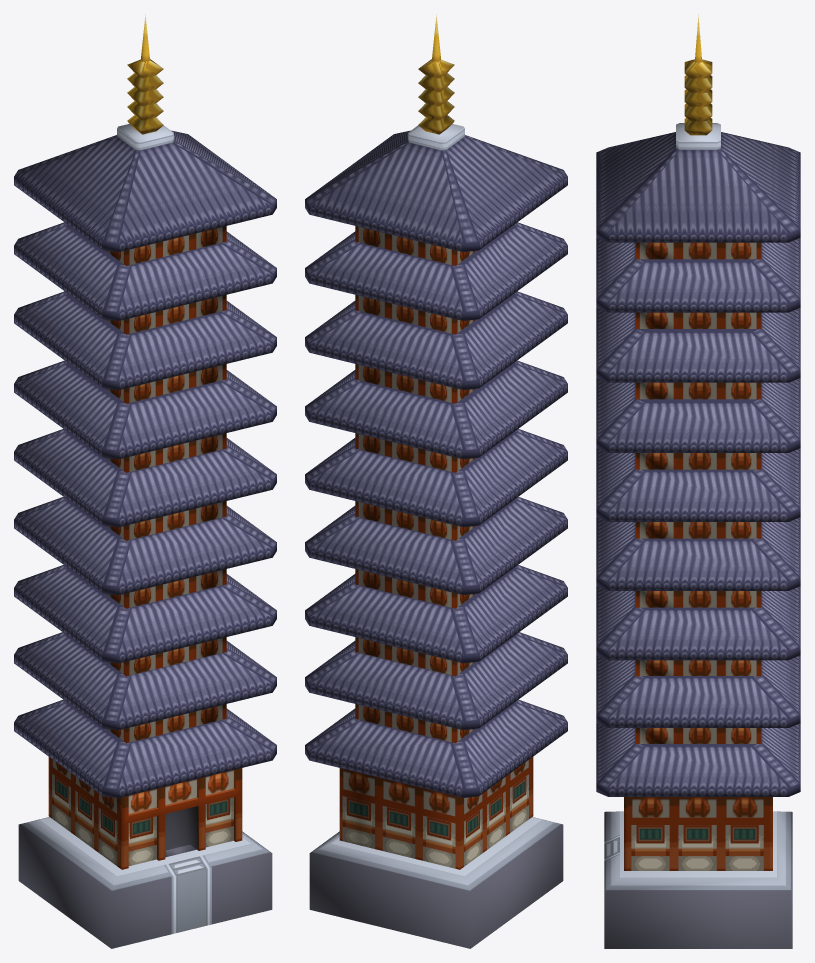
Rendered from tower.glb.
3 renders of one model, left to right at view 1: azimuth 30°, elevation 25°; view 2: azimuth 150°, elevation 25°; view 3: azimuth 270°, elevation 25°, orthographic.
Visible parts, largest first — view 1: mesh; view 2: mesh; view 3: mesh.
Part boxes in pixels (x1=…): mesh: x1=14, y1=14, x2=276, y2=948; mesh: x1=305, y1=14, x2=567, y2=948; mesh: x1=596, y1=14, x2=800, y2=948.
Bounding box in the file's own units: 2.69 × 13.03 × 2.69.
1 material, 1 textured.
